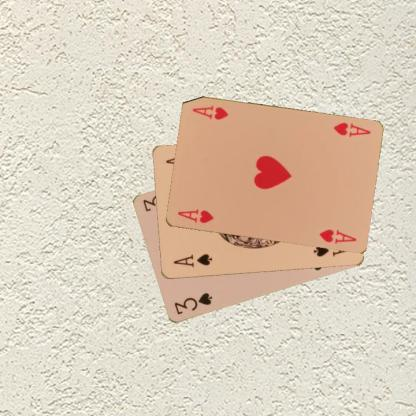3s: (171, 290, 214, 316)
Ah: (331, 120, 372, 139), (174, 207, 215, 225)
As: (171, 251, 214, 269)
